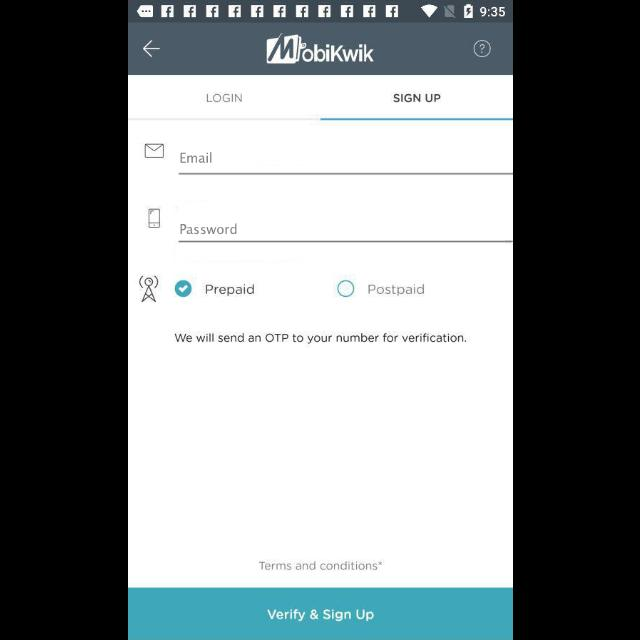checkbox: (337, 280, 353, 296), (174, 282, 190, 296)
icon: (142, 40, 160, 58), (473, 40, 491, 58), (144, 144, 164, 158)
image: (266, 33, 372, 65), (138, 275, 158, 303), (148, 209, 160, 229)
input: (178, 152, 512, 175), (178, 224, 512, 242)
text: (174, 333, 466, 345), (258, 560, 382, 572), (366, 284, 424, 296), (180, 223, 237, 234), (206, 284, 254, 296), (392, 95, 440, 104), (179, 152, 211, 164), (205, 94, 242, 102)
textbutton: (128, 588, 512, 640)
uppertaskbar: (128, 1, 512, 23)
